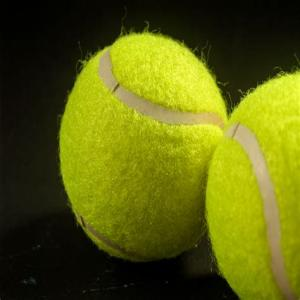Tennis: (54, 30, 228, 255), (203, 66, 300, 300)
